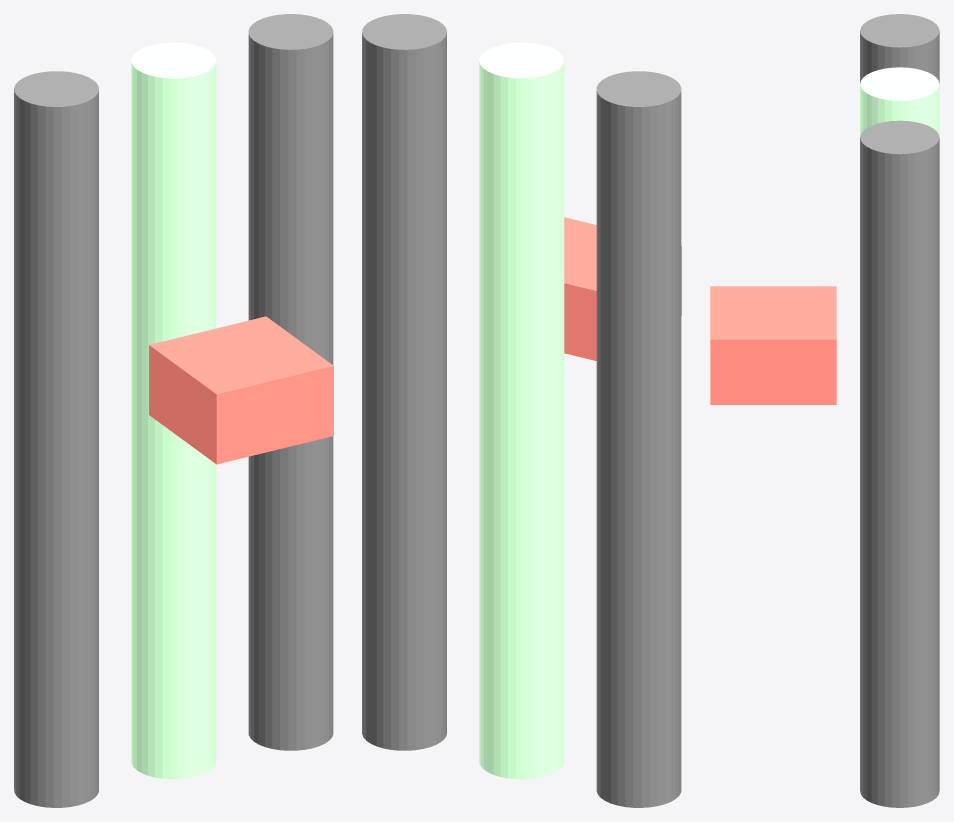
The model's file is pipes.glb.
The picture shows the model from 3 angles, left to right: view 1: azimuth 30°, elevation 25°; view 2: azimuth 150°, elevation 25°; view 3: azimuth 270°, elevation 25°; orthographic projection. The views are drawn at different scales.
Visible parts, largest first — view 1: SB_Pipe0, SB_Pipe1, SB_Pipe2, SB_PipeValve; view 2: SB_Pipe0, SB_Pipe1, SB_Pipe2, SB_PipeValve; view 3: SB_Pipe2, SB_PipeValve, SB_Pipe0, SB_Pipe1.
Part boxes in pixels (box(x1,y1,x2,y2)): SB_Pipe0: box(14, 71, 98, 807); SB_Pipe1: box(131, 42, 216, 779); SB_Pipe2: box(248, 14, 333, 750); SB_PipeValve: box(149, 316, 333, 464); SB_Pipe0: box(596, 71, 681, 807); SB_Pipe1: box(479, 42, 564, 779); SB_Pipe2: box(362, 14, 446, 750); SB_PipeValve: box(564, 217, 681, 360); SB_Pipe2: box(860, 120, 939, 807); SB_PipeValve: box(710, 286, 836, 404); SB_Pipe0: box(860, 14, 939, 83); SB_Pipe1: box(860, 67, 939, 136).
Size of the model in its own units: 0.92 by 2 by 0.635.
